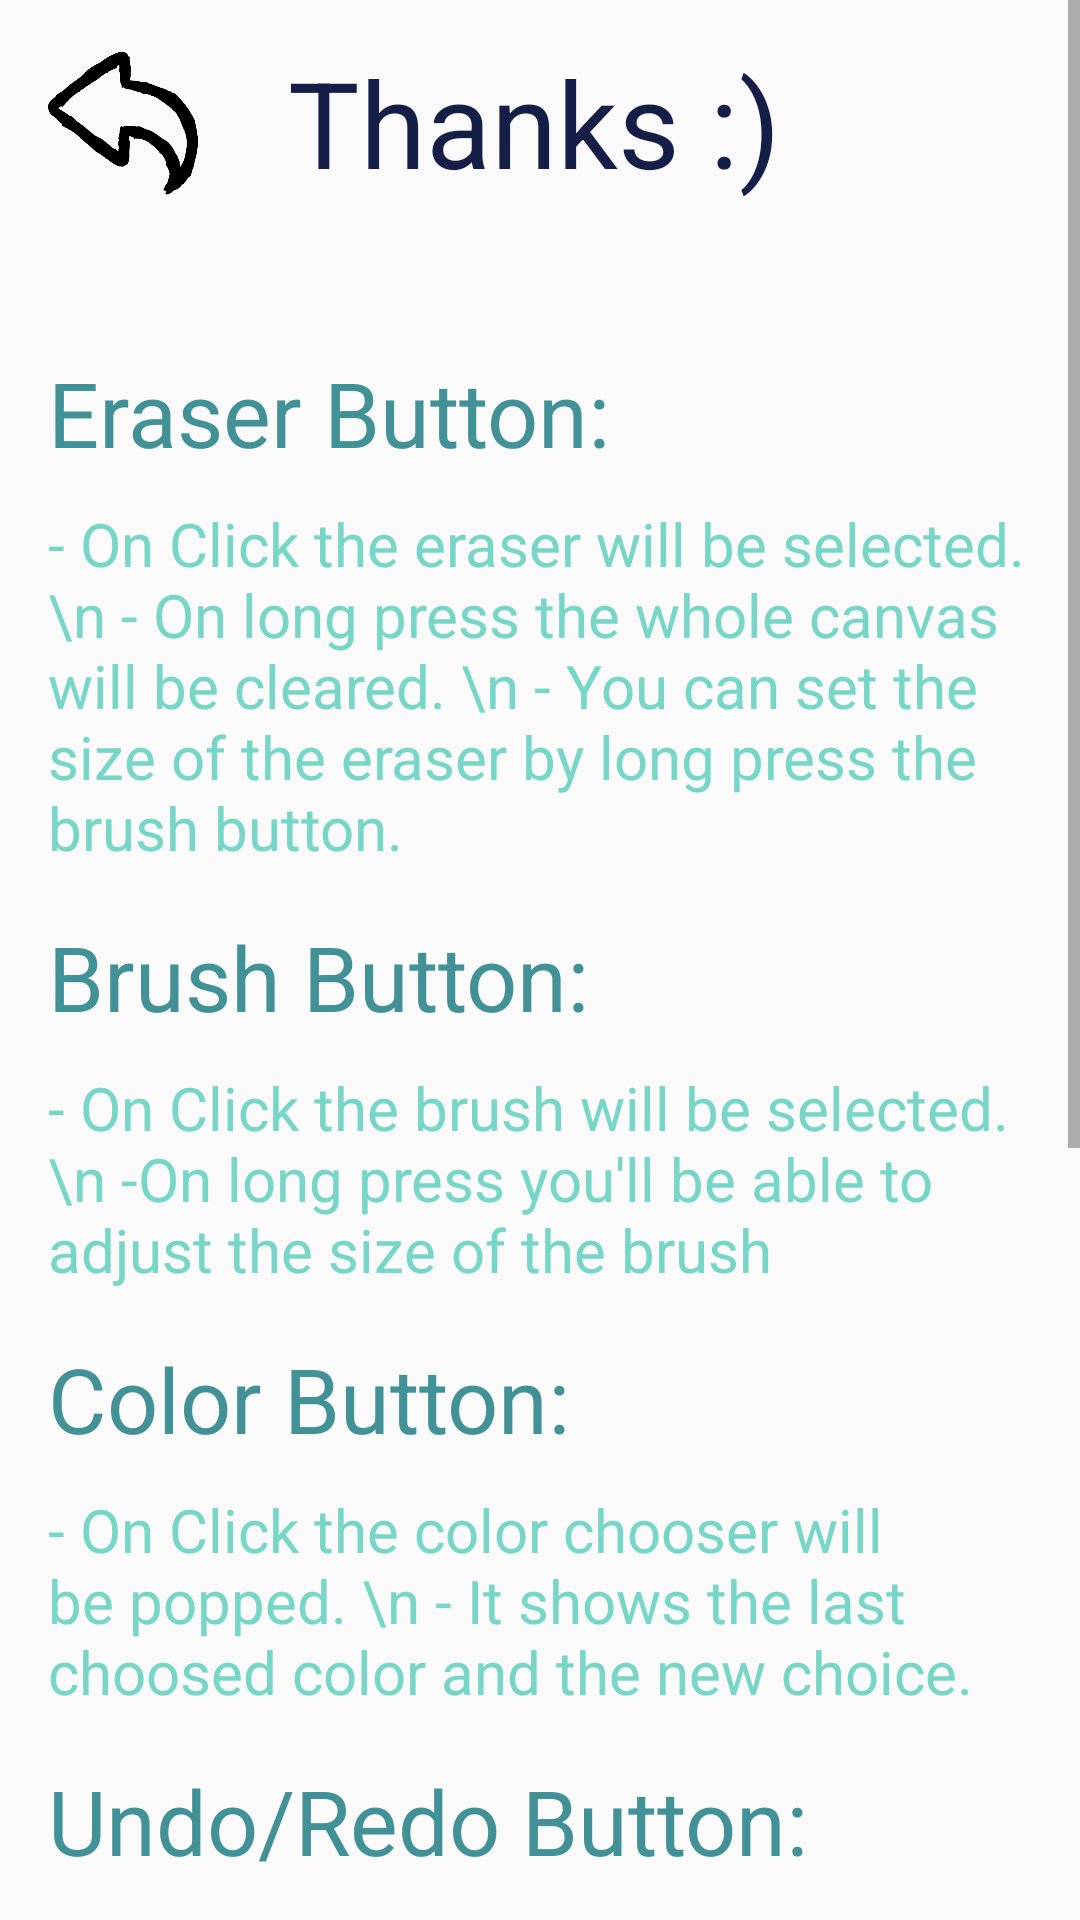

Where to tap for icons on this 1080x1920 app screen, as (x=x, y=y):
back: (x=123, y=123)
